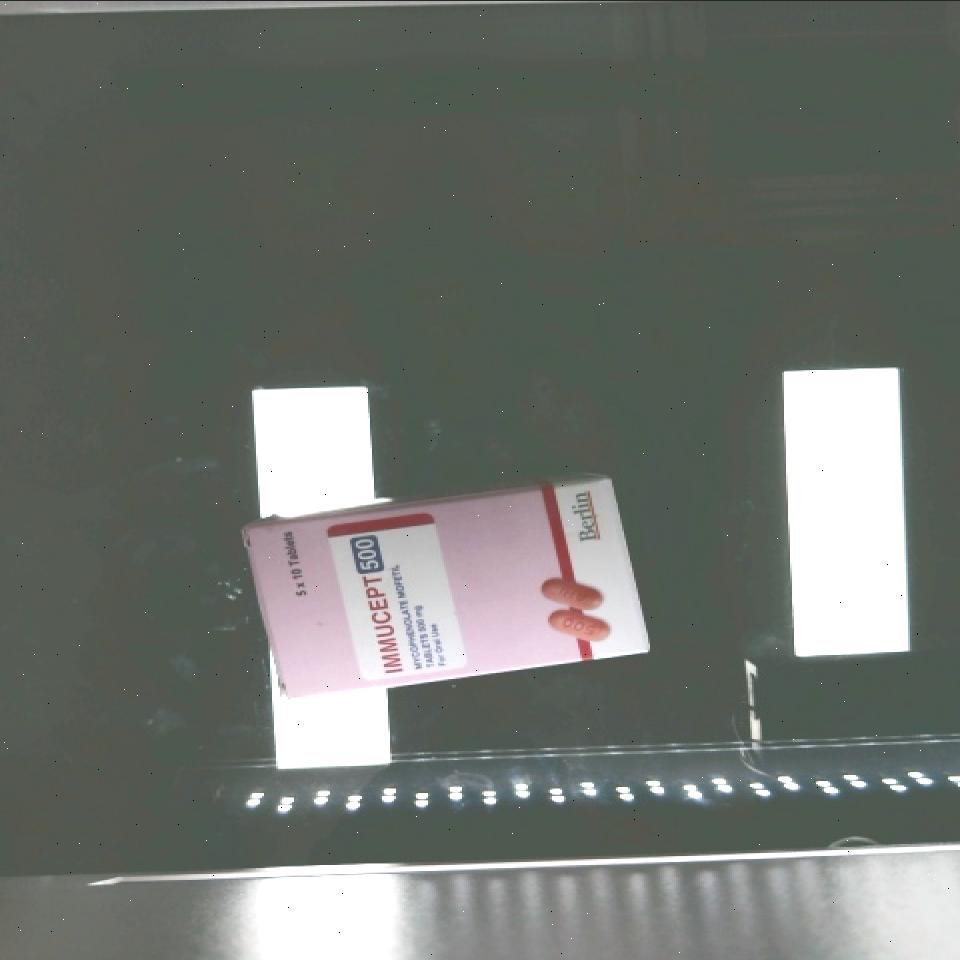medicine_box: (248, 475, 652, 700)
medicine_label_obb: (336, 521, 415, 682)
